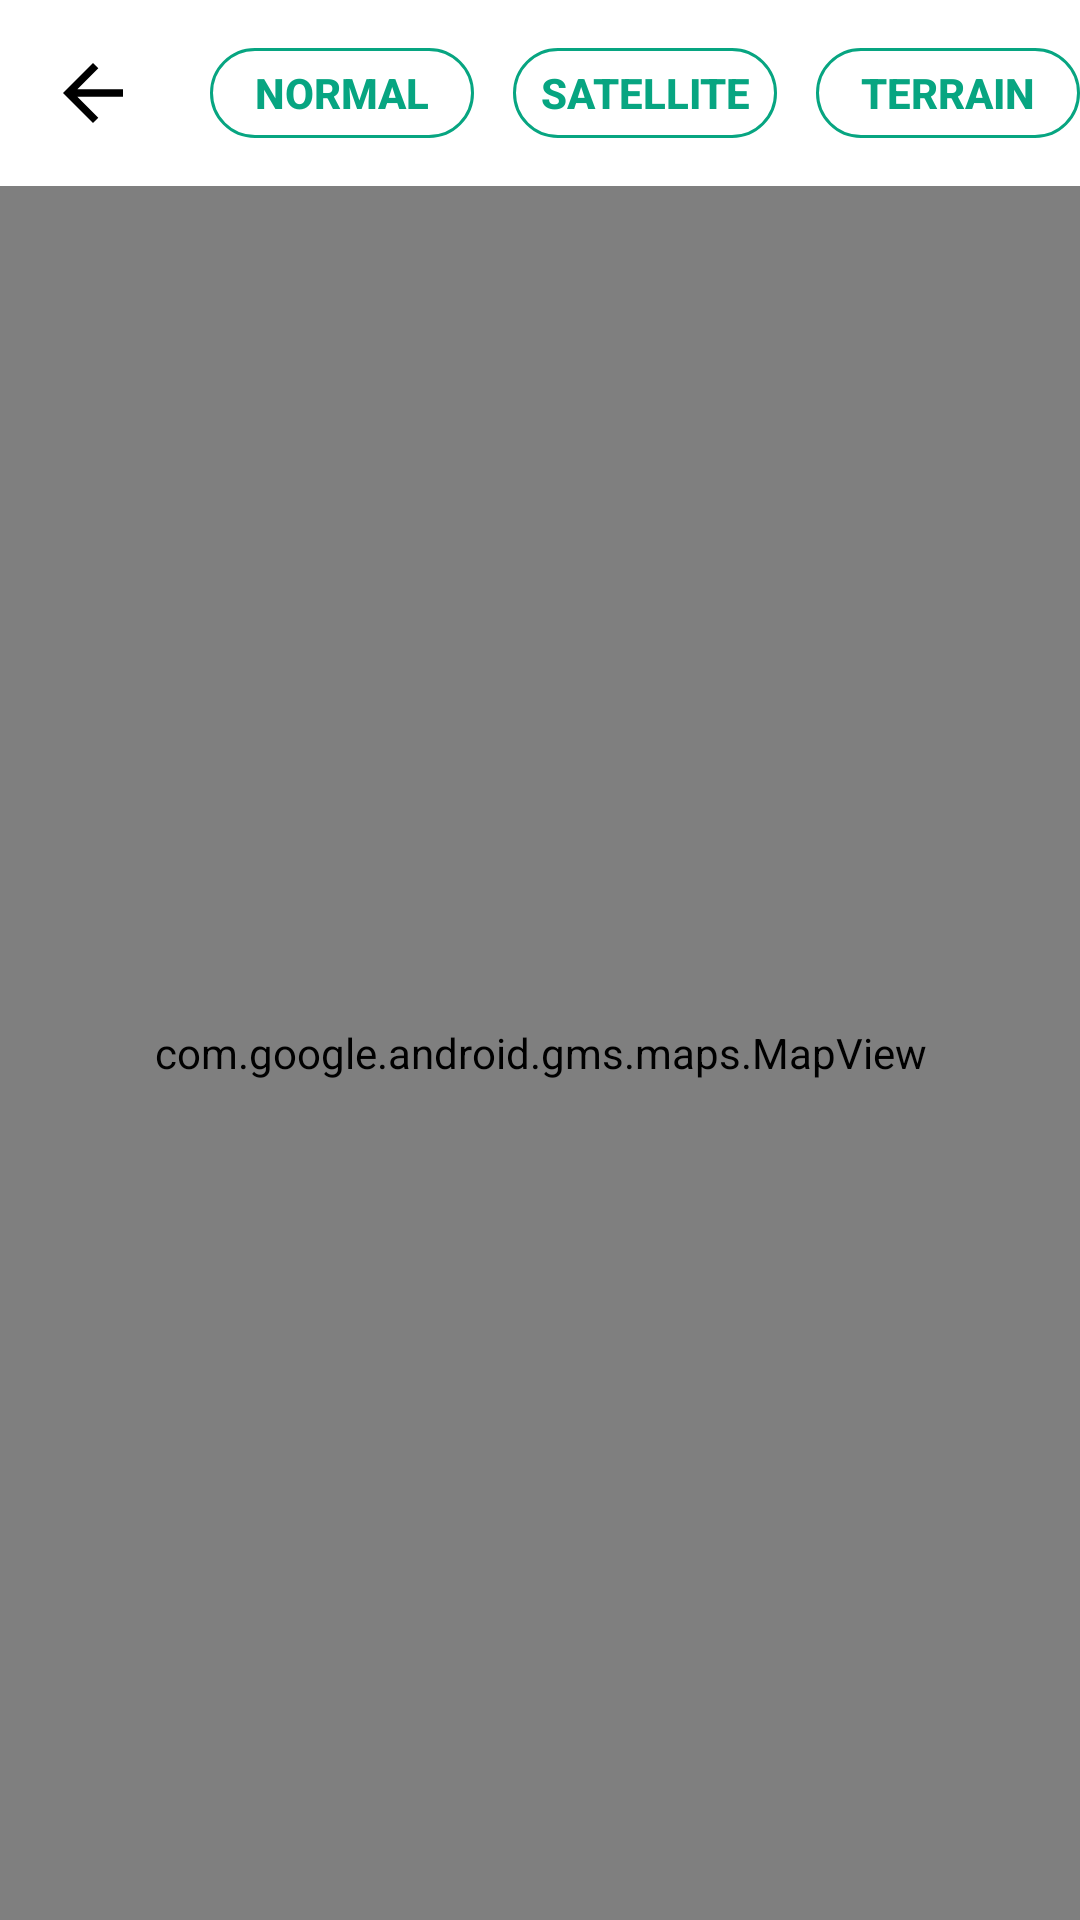

Icons on this 1080px x 1920px Android screen, each with its box as (x1, y1, x2, y2):
back: (63, 63, 123, 123)
